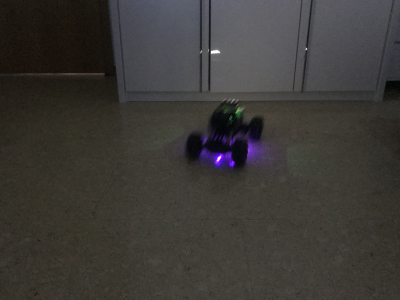remote control car: (182, 97, 266, 168)
